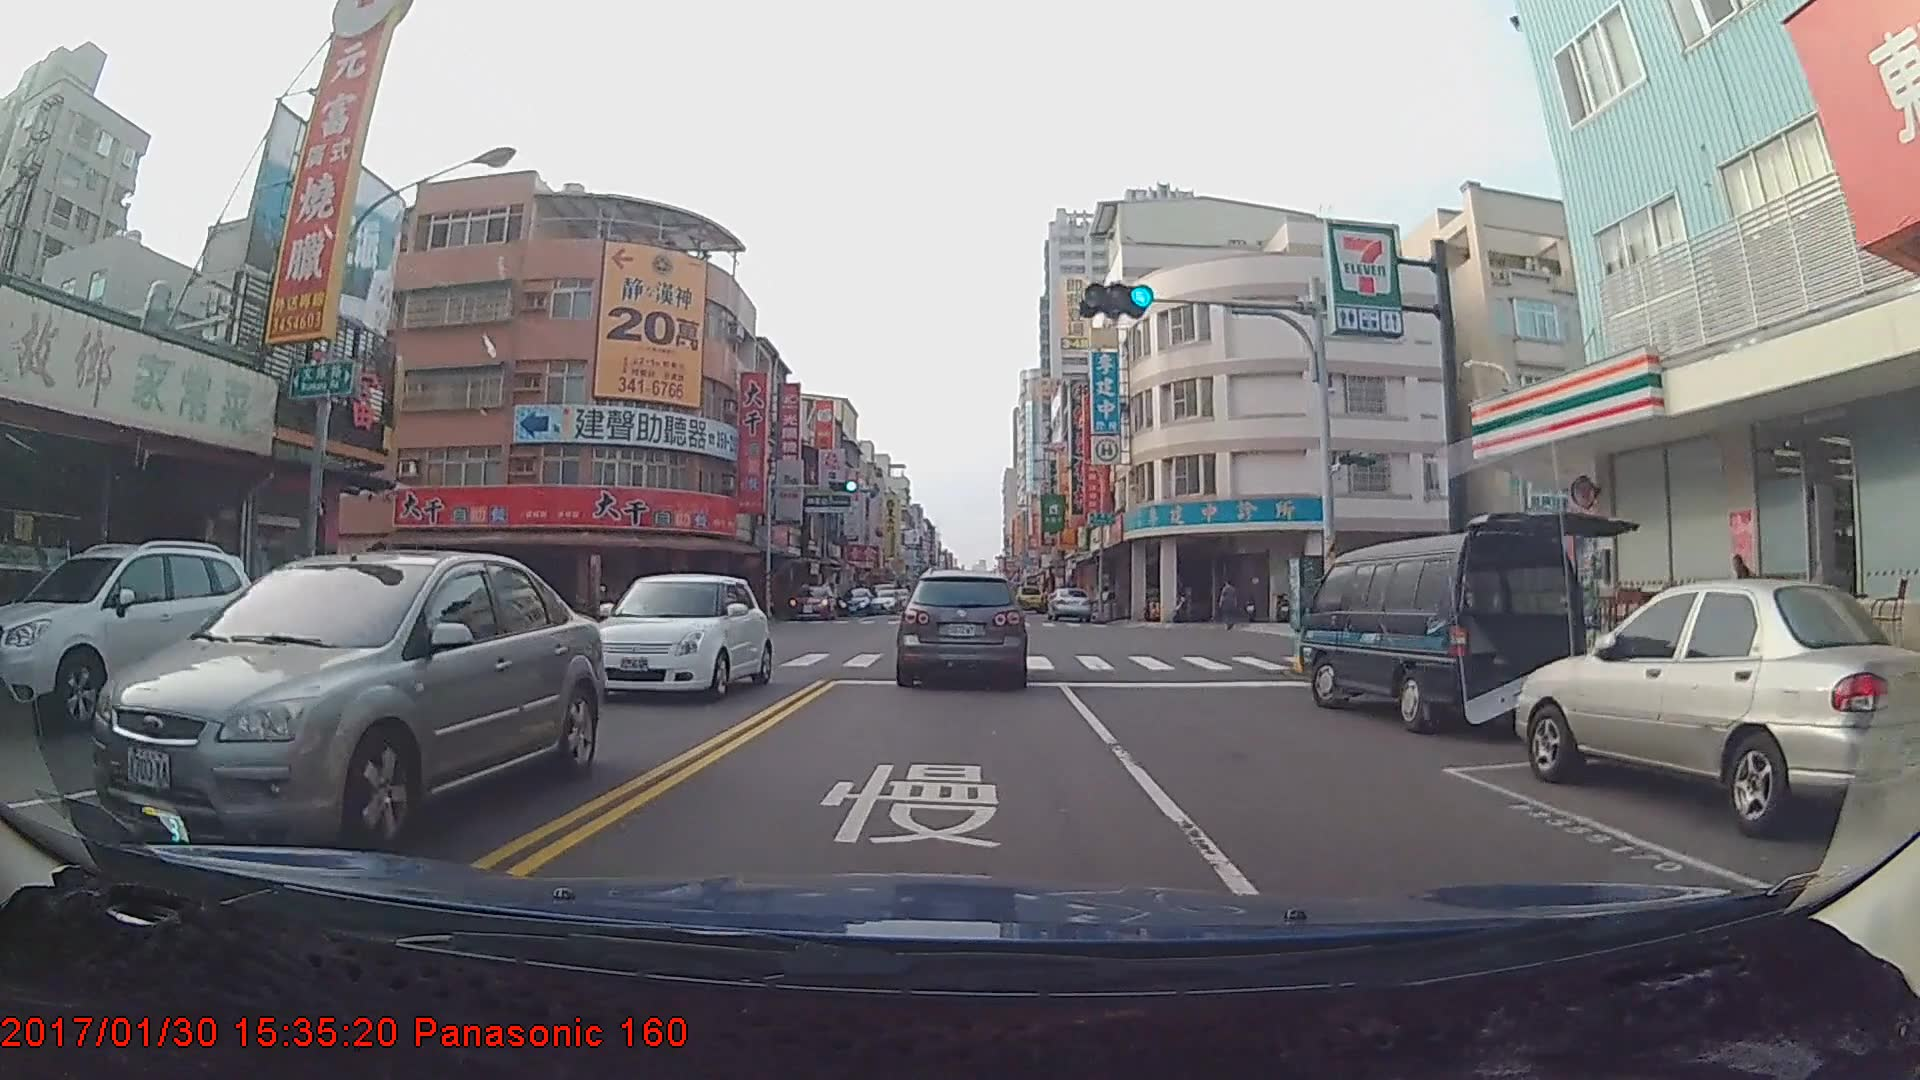pedestrian: (1221, 584, 1243, 637)
vehicle: (89, 550, 604, 855), (1513, 579, 1918, 840), (1298, 524, 1597, 737), (0, 533, 261, 727), (579, 571, 772, 706), (898, 568, 1028, 687), (1046, 586, 1096, 623), (787, 584, 835, 619), (837, 589, 875, 616), (1014, 585, 1046, 611)
